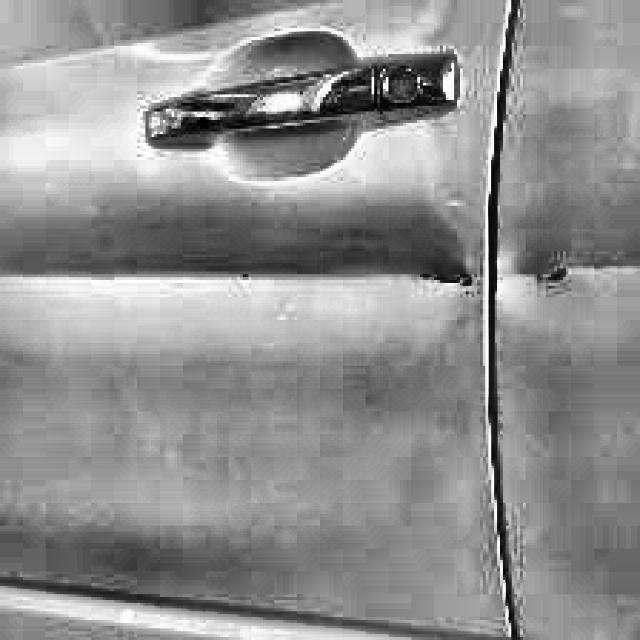door_dent: (22, 259, 627, 292)
